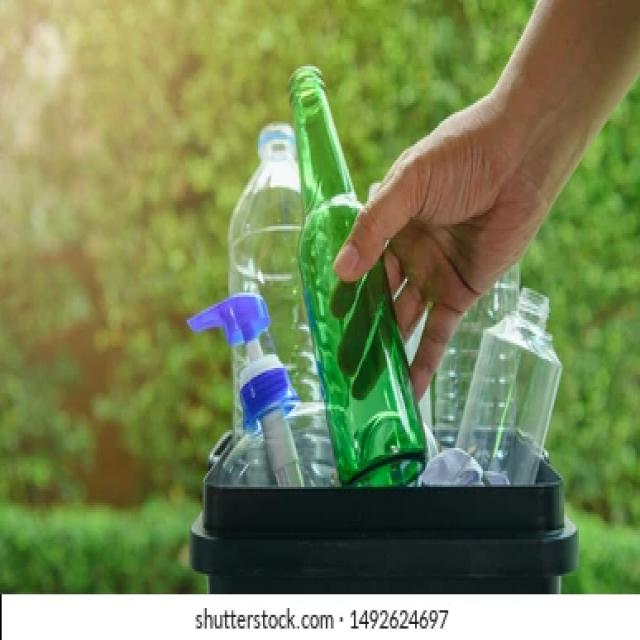plastic: (208, 487, 574, 584), (208, 307, 310, 476), (473, 293, 548, 481), (234, 124, 298, 293)
